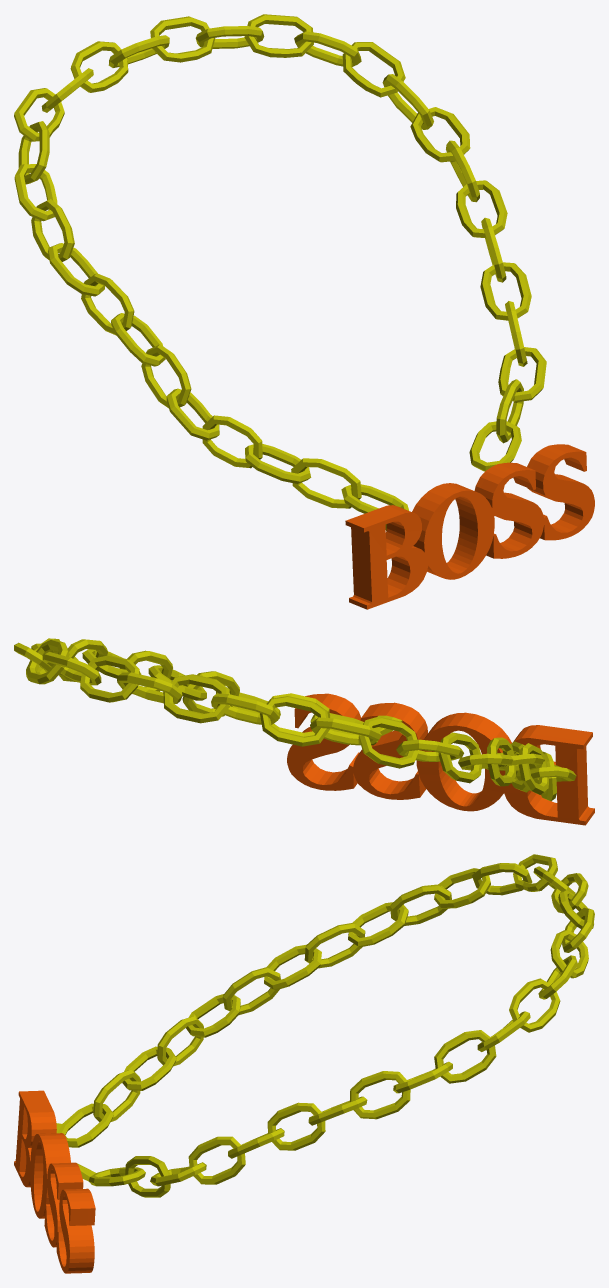
File: Boss Kette.fbx
3 renders of one model, top to bottom at view 1: azimuth 30°, elevation 25°; view 2: azimuth 150°, elevation 25°; view 3: azimuth 270°, elevation 25°, orthographic. The views are drawn at different scales.
Parts seen in each view (by area): view 1: Boss Kette; view 2: Boss Kette; view 3: Boss Kette.
Boxes of the visible parts, bbox=[...] form: Boss Kette: bbox=[14, 14, 594, 609]; Boss Kette: bbox=[14, 638, 594, 825]; Boss Kette: bbox=[14, 854, 594, 1273].
Bounding box in the file's own units: 160 × 119 × 203.
